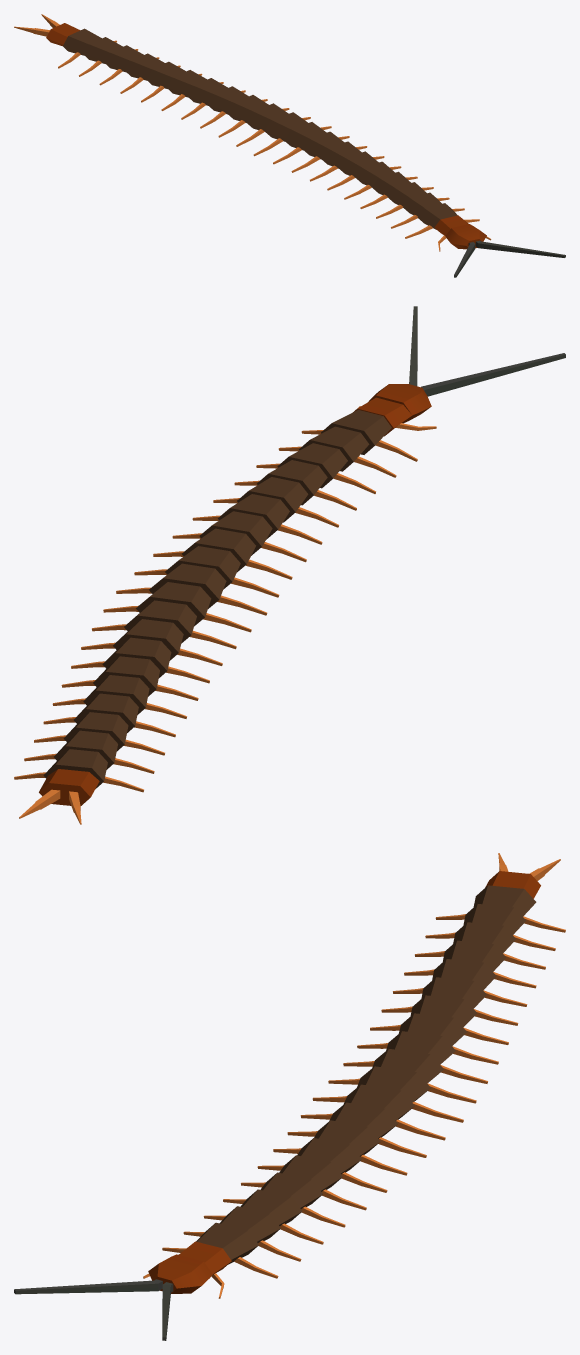
3 views of the same model, one above another, from view 1: azimuth 30°, elevation 25°; view 2: azimuth 150°, elevation 25°; view 3: azimuth 330°, elevation 25° (orthographic). The views are drawn at different scales.
Parts seen in each view (by area): view 1: Geo_Centipede Centipede_w_Deformer; view 2: Geo_Centipede Centipede_w_Deformer; view 3: Geo_Centipede Centipede_w_Deformer.
Part boxes in pixels (x1,y1,x2,y2): Geo_Centipede Centipede_w_Deformer: [14, 14, 565, 277]; Geo_Centipede Centipede_w_Deformer: [14, 306, 565, 824]; Geo_Centipede Centipede_w_Deformer: [14, 853, 565, 1340].
Size of the model in its own units: 7.61 by 0.9983 by 30.29.
Materials: 1 (1 with a texture image).
